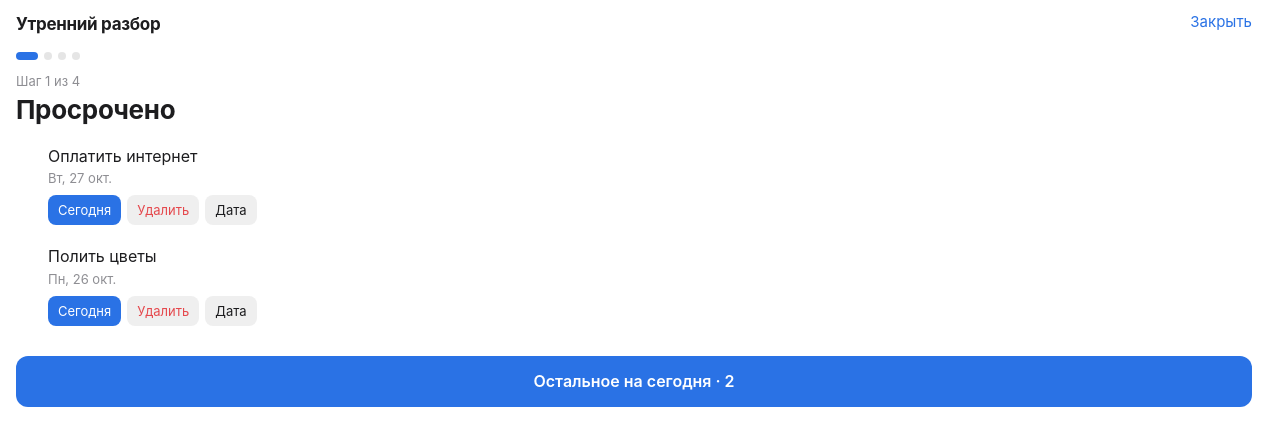
Test: Утренний разбор › «Остальное на сегодня» переносит оставшиеся просроченные
The image size is (1269, 424).
Expected: the text "Оплатить интернет" is shown, [48, 146, 198, 166]
Click the button "Удалить" below "Пн, 26 окт." at coordinates (163, 311), box [127, 296, 199, 326]
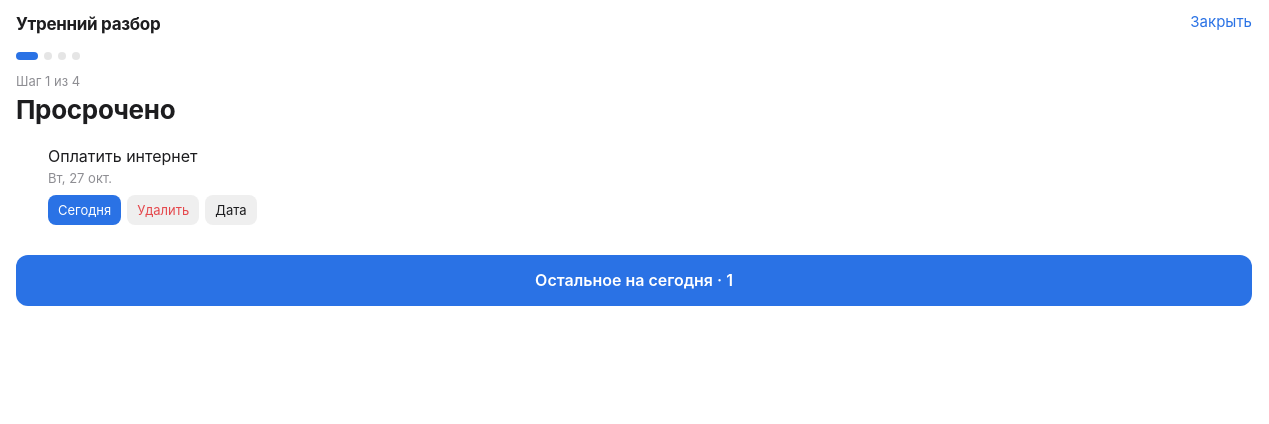
Expected: the text "Полить цветы" is gone
Click the button "Остальное на сегодня · 1" at coordinates (634, 280), box [16, 255, 1252, 306]
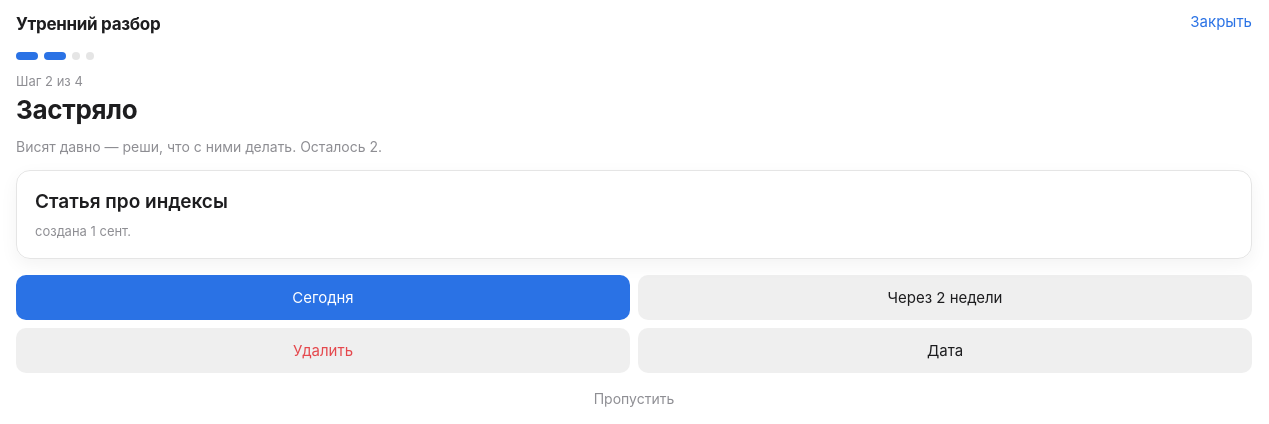
Expected: the heading "Застряло" is shown, [16, 94, 137, 125]
